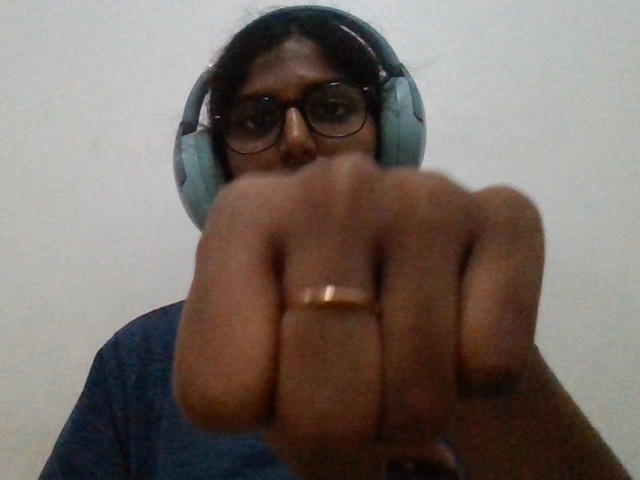Yes: (169, 135, 589, 480)
